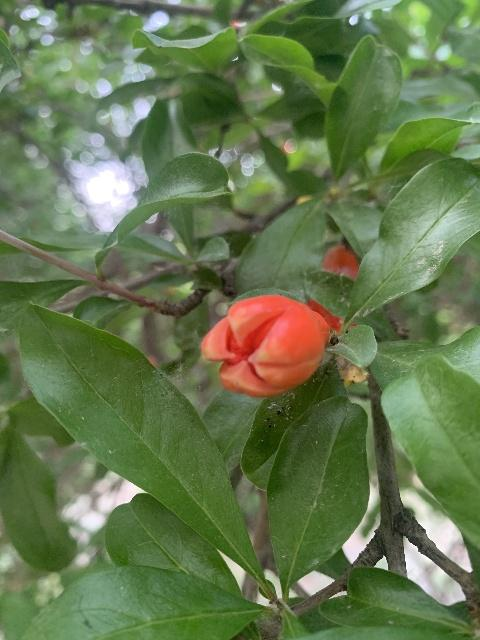flower: (201, 294, 328, 397)
